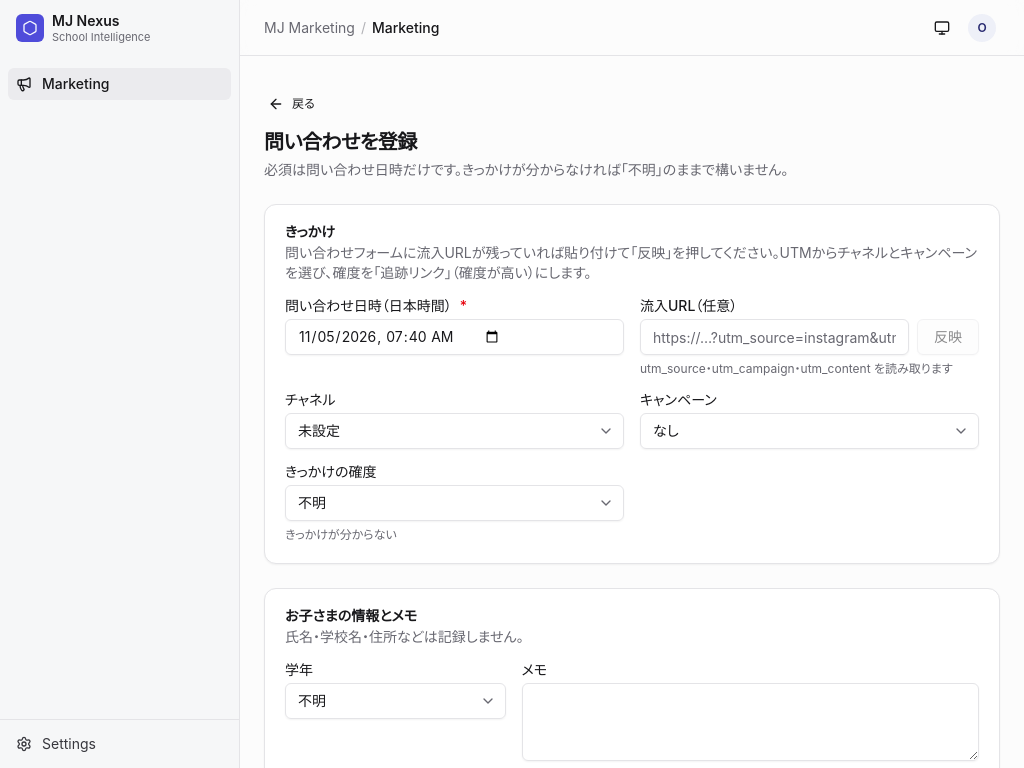
Marketing: 問い合わせの登録 › 流入URLを反映していなければ「追跡リンク」は保存しない
Select "追跡リンク" in the dropdown labelled "きっかけの確度": (454, 503) [285,485,624,521]
(page scrolled)
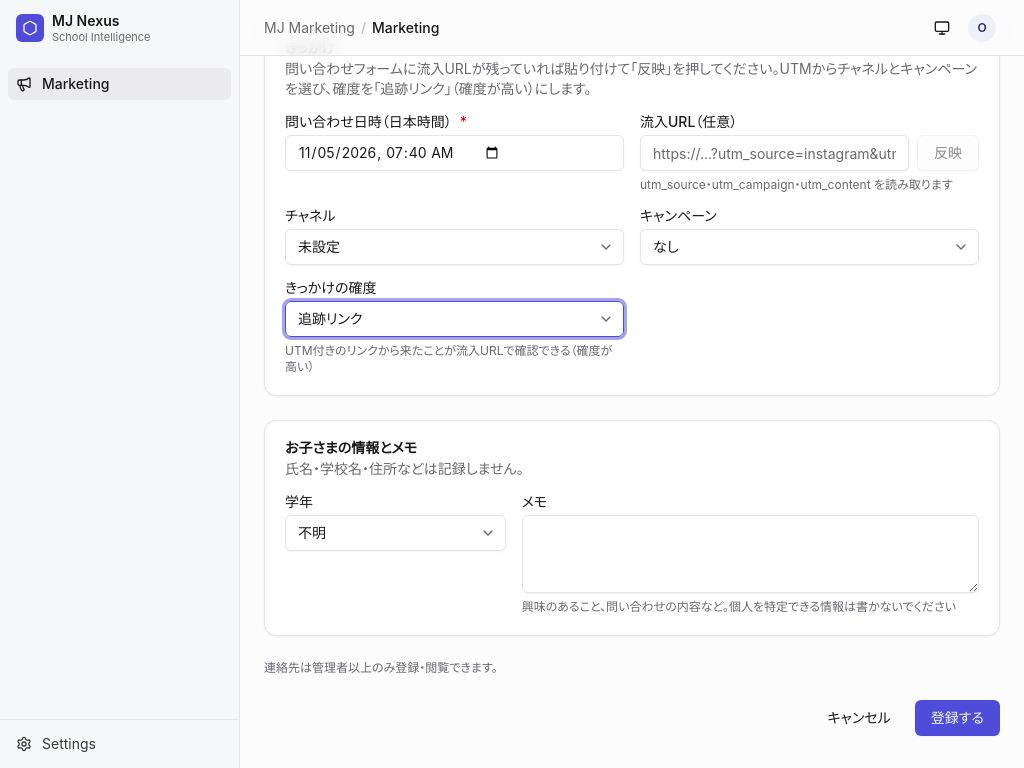
Click the button "登録する": (957, 718) [915,700,1000,736]
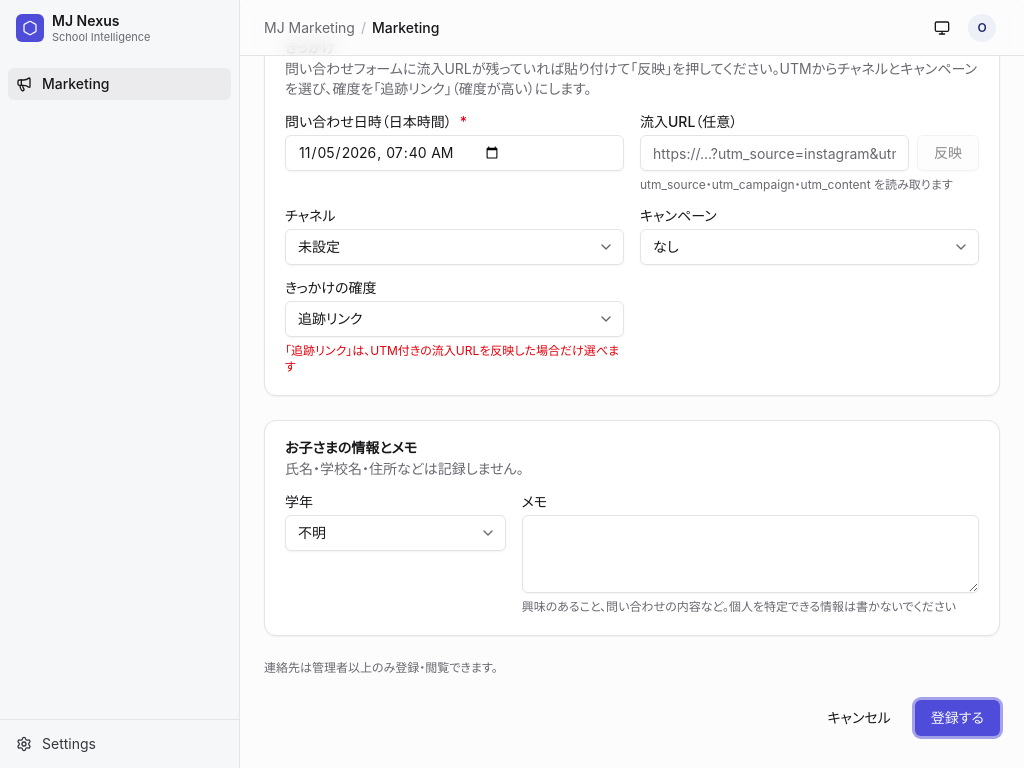
Result: the text "「追跡リンク」は、UTM付きの流入URLを反映した場合だけ選べます" is shown at [285,343,624,375]
